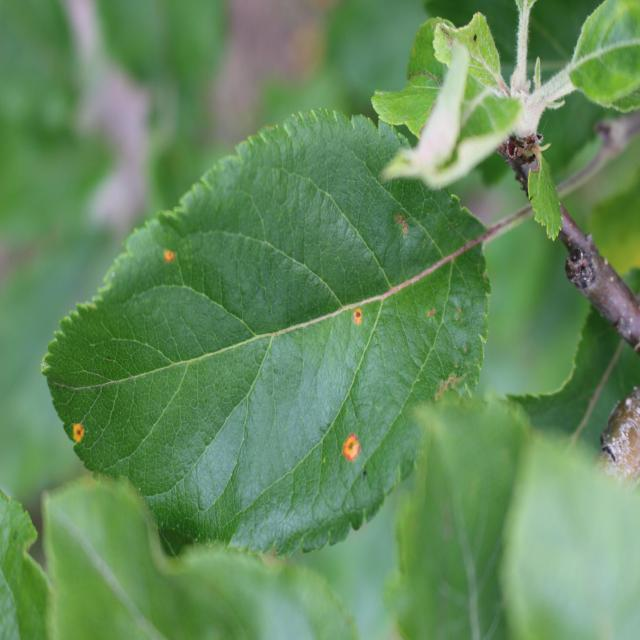Rust: (334, 428, 367, 472), (60, 411, 90, 450), (157, 237, 179, 280), (348, 299, 368, 339)
scab: (18, 341, 147, 409)
